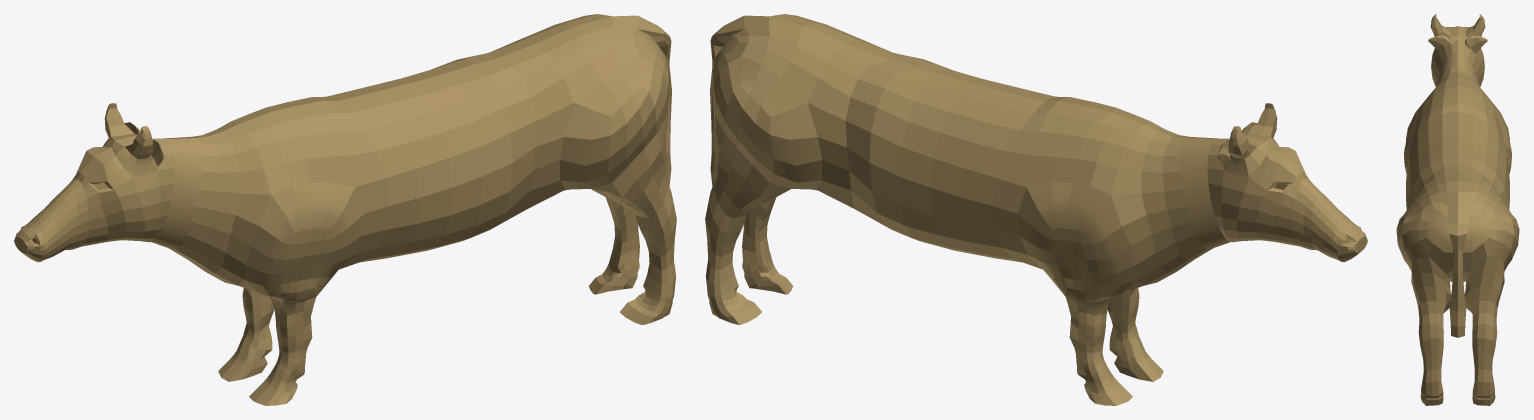
The model's file is ASS_Cow_JC_01_FBX.fbx.
3 views of the same model, side by side, from view 1: azimuth 30°, elevation 25°; view 2: azimuth 150°, elevation 25°; view 3: azimuth 270°, elevation 25° (orthographic). The views are drawn at different scales.
Parts seen in each view (by area): view 1: cowbody2; view 2: cowbody2; view 3: cowbody2.
Part boxes in pixels (<box>): cowbody2: <box>14,14,676,405</box>; cowbody2: <box>705,14,1367,405</box>; cowbody2: <box>1396,14,1519,405</box>.
Bounding box in the file's own units: 9.63 × 4.38 × 2.27.
